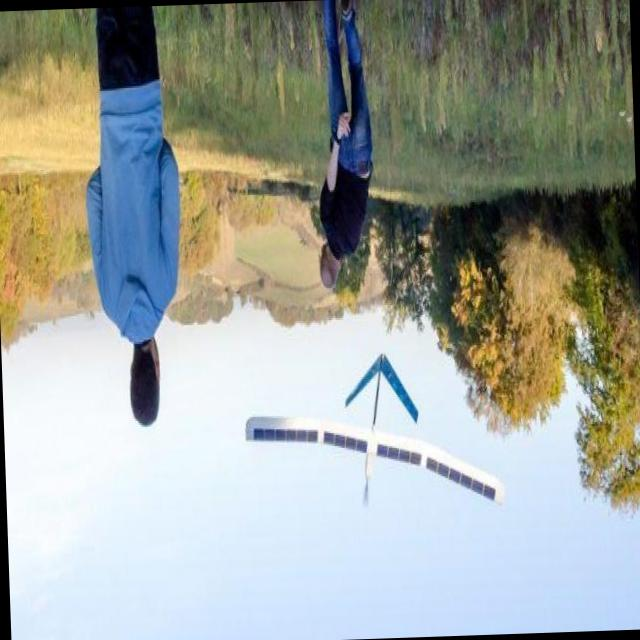UAV: (247, 359, 488, 486)
